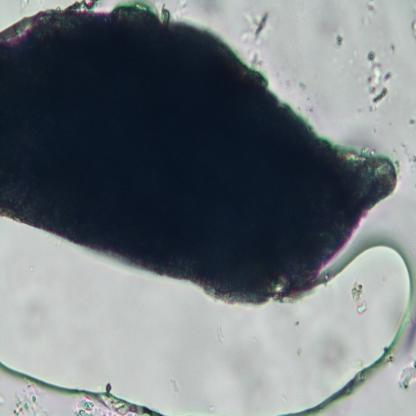Air bubble: (343, 240, 416, 381)
Background material: (364, 51, 392, 112), (236, 10, 270, 46), (398, 341, 416, 393), (352, 277, 370, 318), (14, 389, 38, 416), (79, 398, 96, 416), (334, 35, 344, 49), (406, 116, 416, 128)
Fragment: (0, 0, 400, 313)
